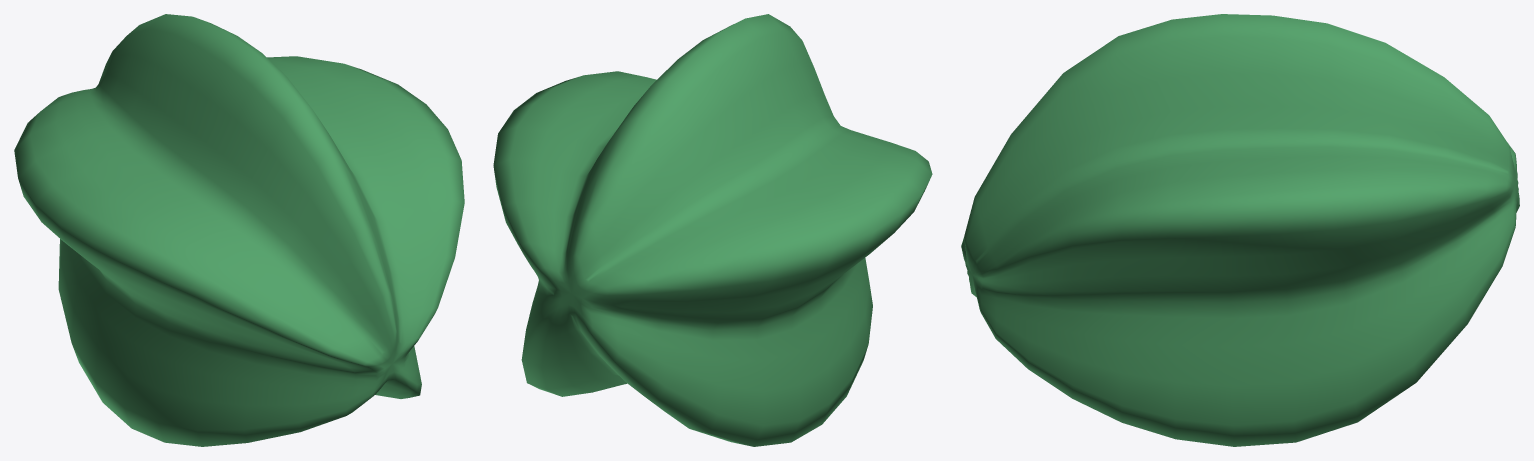
File: Starfruit_03.dae
The picture shows the model from 3 angles, left to right: view 1: azimuth 30°, elevation 25°; view 2: azimuth 150°, elevation 25°; view 3: azimuth 270°, elevation 25°; orthographic projection. The views are drawn at different scales.
Visible parts, largest first — view 1: Starfruit_03_LOD0; view 2: Starfruit_03_LOD0; view 3: Starfruit_03_LOD0.
Part boxes in pixels (box(x1,y1,x2,y2)): Starfruit_03_LOD0: box(14, 14, 464, 446); Starfruit_03_LOD0: box(493, 14, 932, 446); Starfruit_03_LOD0: box(961, 14, 1519, 446).
Size of what is drawn, in the model's own units: 3.94 by 5.02 by 3.72.
